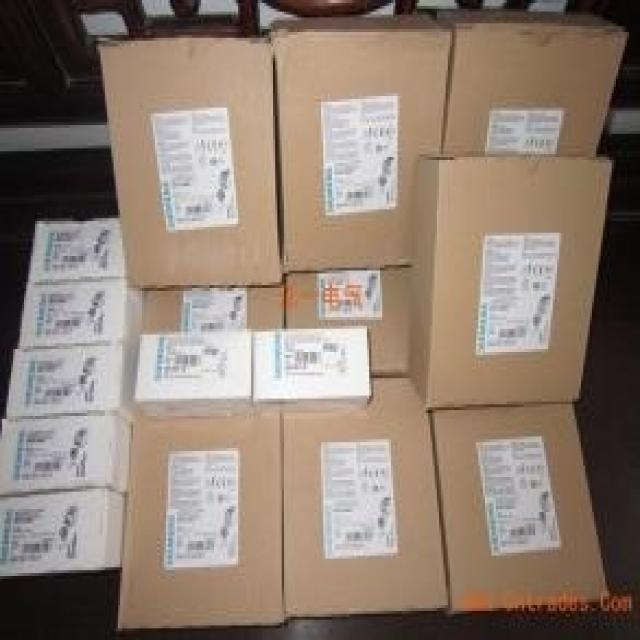box: (411, 154, 612, 410), (98, 29, 282, 288), (269, 15, 452, 273), (282, 375, 450, 617), (430, 404, 609, 617), (118, 416, 282, 628), (439, 12, 627, 154), (286, 268, 413, 375), (0, 489, 125, 576), (253, 326, 371, 416), (135, 332, 256, 419), (4, 343, 142, 419), (0, 416, 129, 495), (17, 279, 144, 355), (142, 285, 284, 332), (28, 218, 125, 282)
